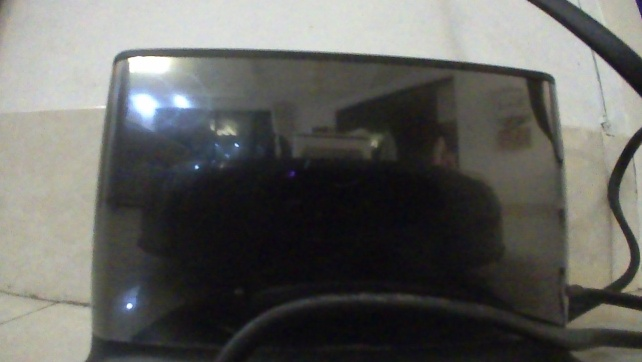wire: (215, 0, 641, 361)
